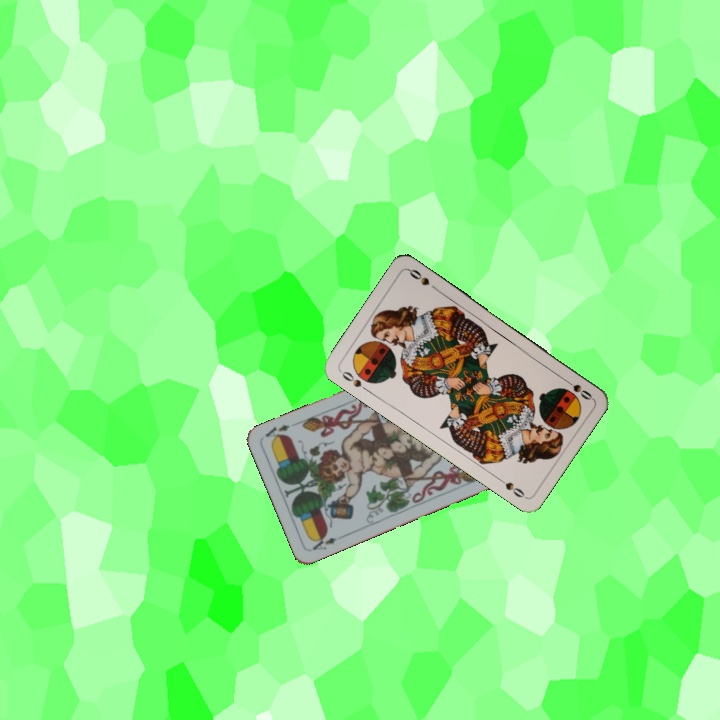EA: (307, 531, 340, 553)
SO: (559, 374, 595, 403), (338, 367, 371, 394)
